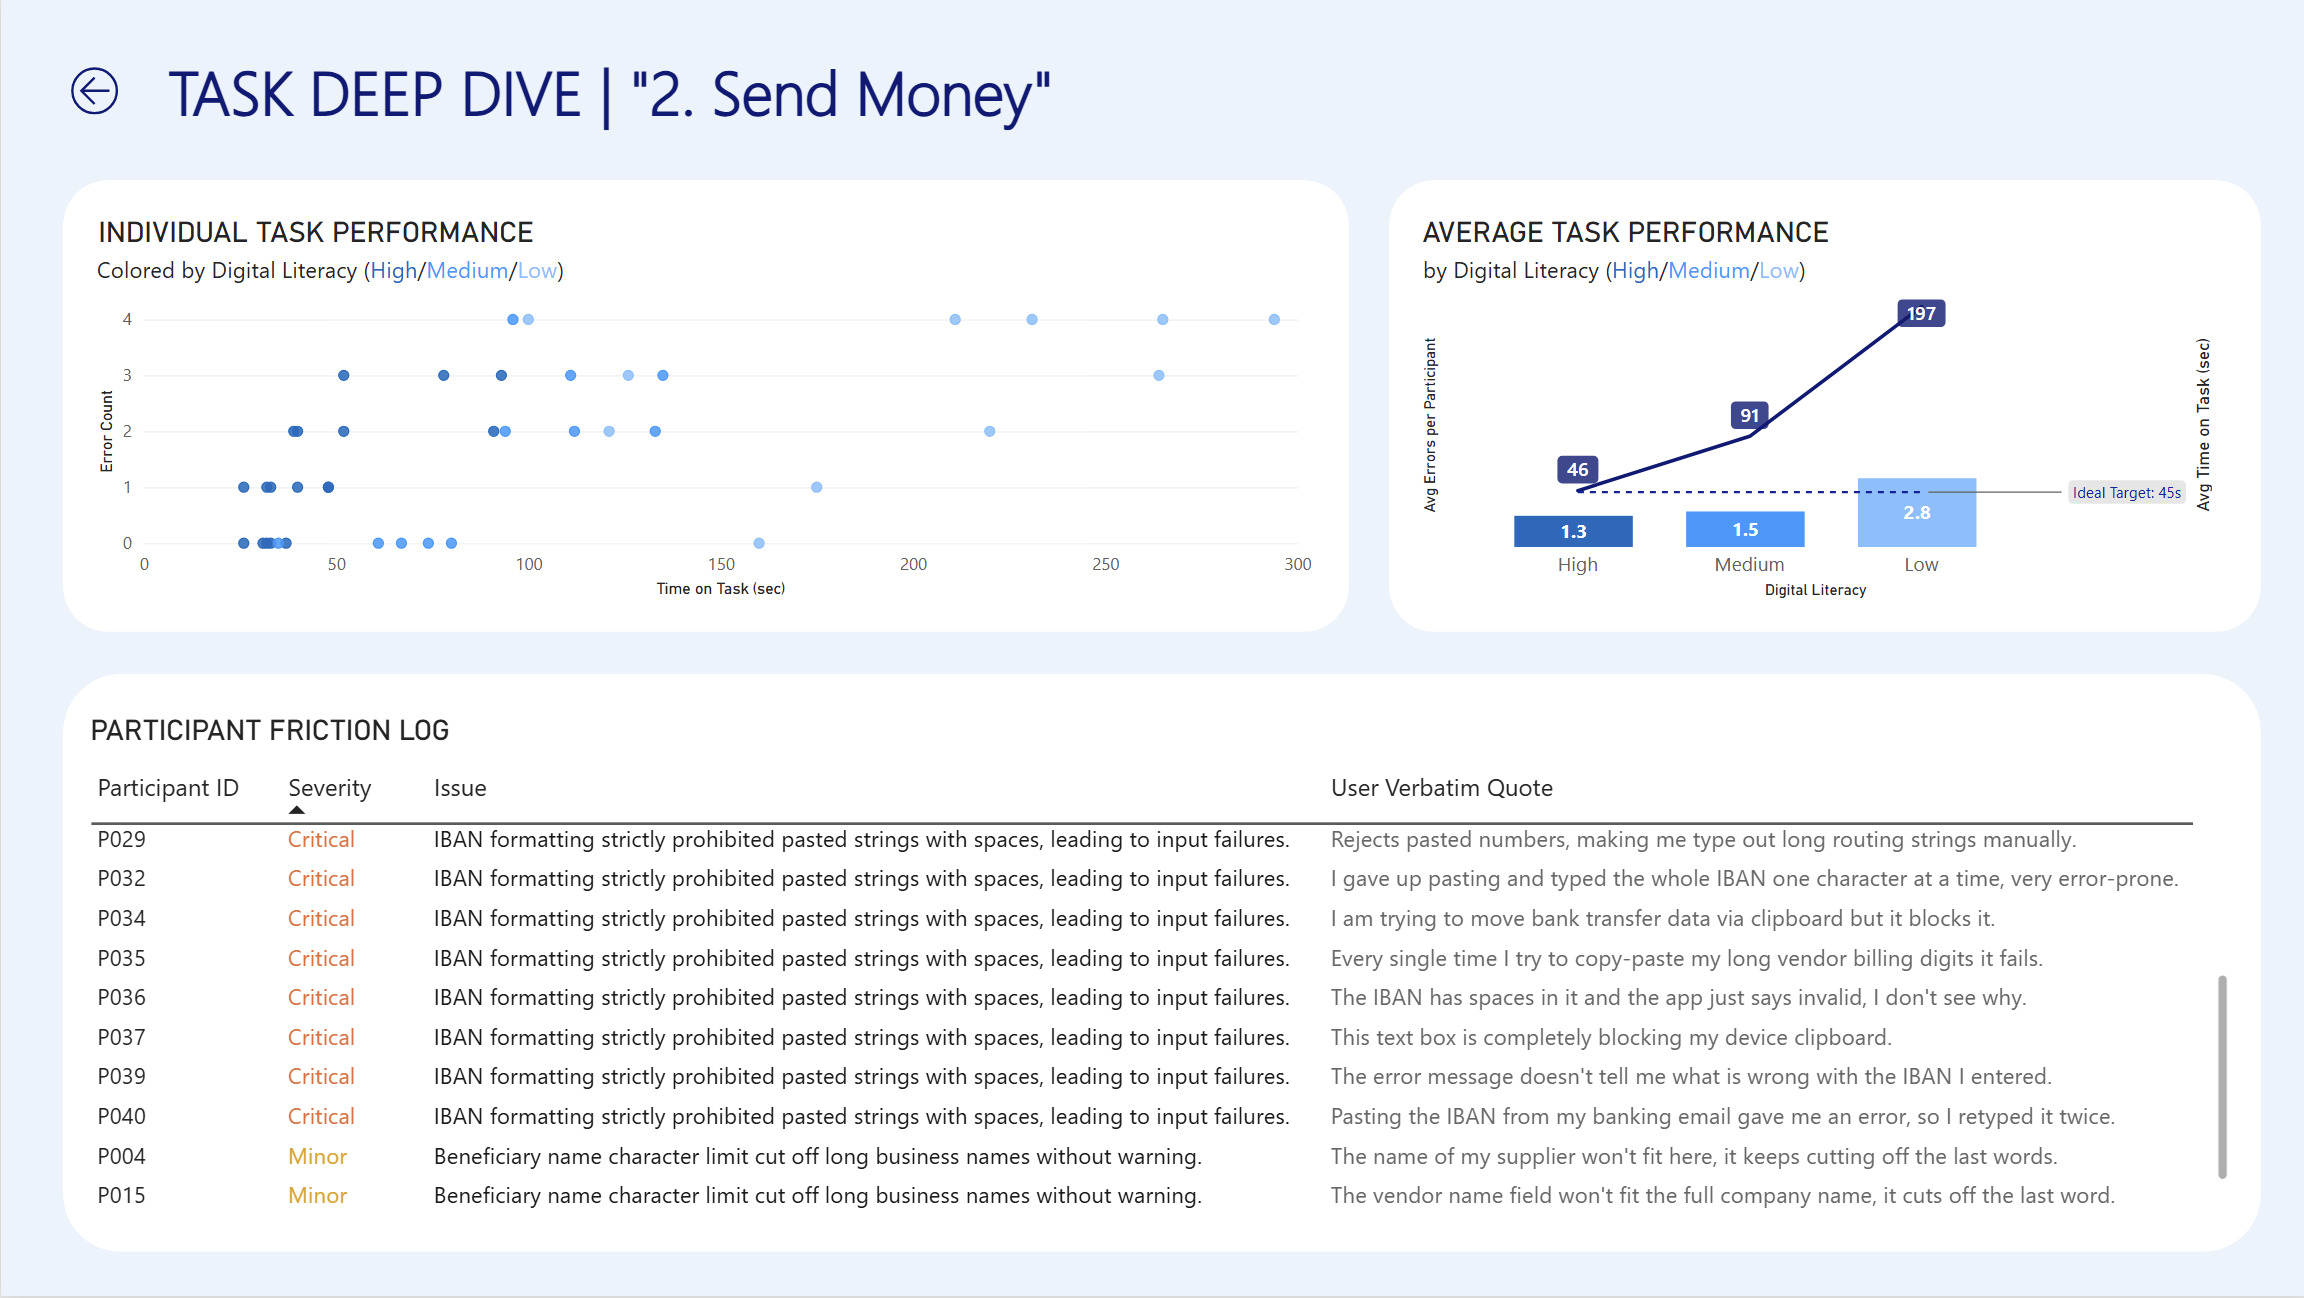

Layout of this report page (visuals, bound fields, positions):
{"tool":"powerbi","page":{"name":"Task Deep Dive","canvas":[1920,1080],"ordinal":1},"visuals":[{"type":"actionButton","box":[0,32,156,88],"z":0},{"type":"cardVisual","fields":{"Data":["task_performance.dynamic_title_page_2"]},"box":[122.5,0,1683.3,150],"z":1000},{"type":"shape","box":[1156.7,150,726.7,376.7],"z":2000},{"type":"shape","box":[51.7,150,1071.7,376.7],"z":3000},{"type":"scatterChart","title":"INDIVIDUAL TASK PERFORMANCE","fields":{"Category":["participants.participant_id"],"Series":["participants.tech_literacy"],"X":["Avg(task_performance.time_on_task_sec)"],"Y":["Sum(task_performance.error_count)"]},"box":[65,165,1043.3,348.3],"z":4000},{"type":"shape","box":[51.7,561.7,1831.7,481.7],"z":5000},{"type":"tableEx","title":"PARTICIPANT FRICTION LOG","fields":{"Values":["participants.participant_id","qualitative_insights.severity","qualitative_insights.issue_description","qualitative_insights.user_quote"]},"box":[58.3,580,1813.3,451.7],"z":6000},{"type":"textbox","box":[80,211.7,698.6,48.6],"z":7000},{"type":"lineStackedColumnComboChart","title":"AVERAGE TASK PERFORMANCE","fields":{"Category":["participants.tech_literacy"],"Y":["task_performance.avg_errors_per_participant"],"Y2":["Avg(task_performance.time_on_task_sec)","task_performance.ideal_target_p2"]},"box":[1168.3,165,690,348.3],"z":8000},{"type":"textbox","box":[1185,211,698.3,37.4],"z":9000}]}

Visuals, with their boxes in screenshot pixels (x1, y1, x2, y2), scaled from the page's 1920x1080 canvas onto the 2304x1298 screenshot:
actionButton: 0,38,187,144
cardVisual - task_performance.dynamic_title_page_2: 147,0,2167,180
shape: 1388,180,2260,633
shape: 62,180,1348,633
"INDIVIDUAL TASK PERFORMANCE" scatterChart: 78,198,1330,617
shape: 62,675,2260,1254
"PARTICIPANT FRICTION LOG" tableEx: 70,697,2246,1240
textbox: 96,254,934,313
"AVERAGE TASK PERFORMANCE" lineStackedColumnComboChart: 1402,198,2230,617
textbox: 1422,254,2260,299
